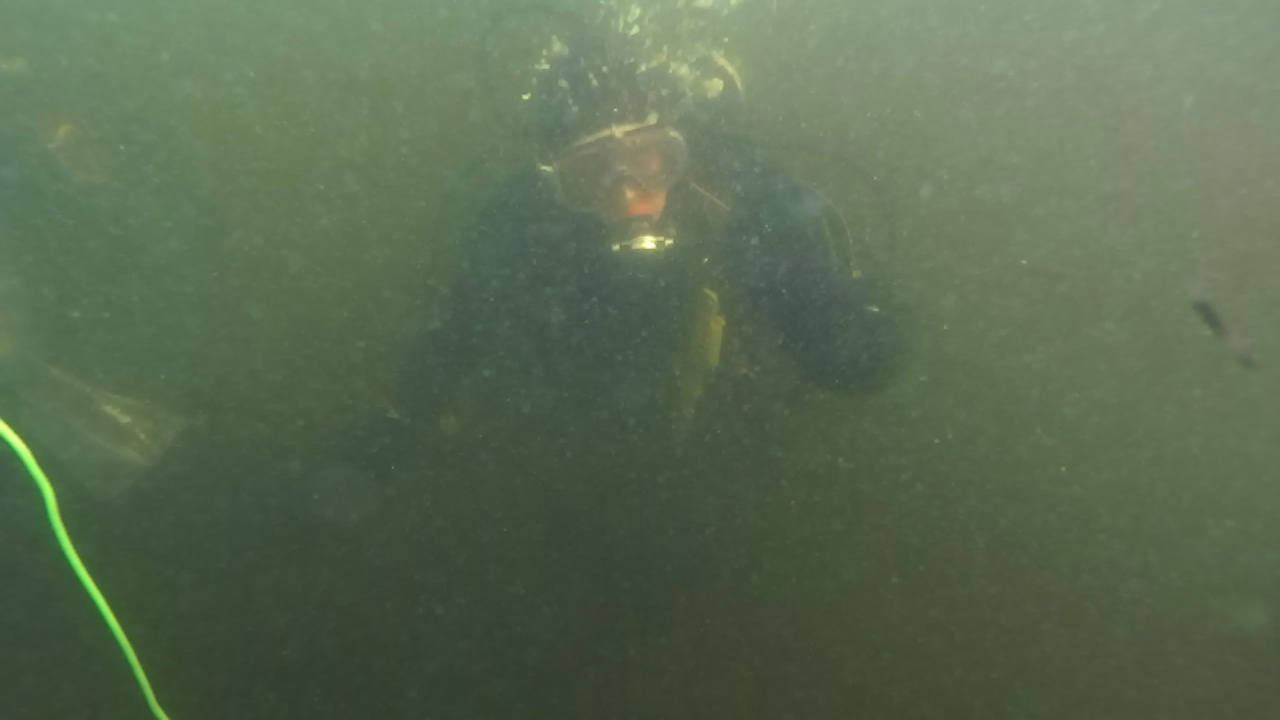Diver: (234, 10, 952, 586)
Head: (512, 26, 738, 286)
